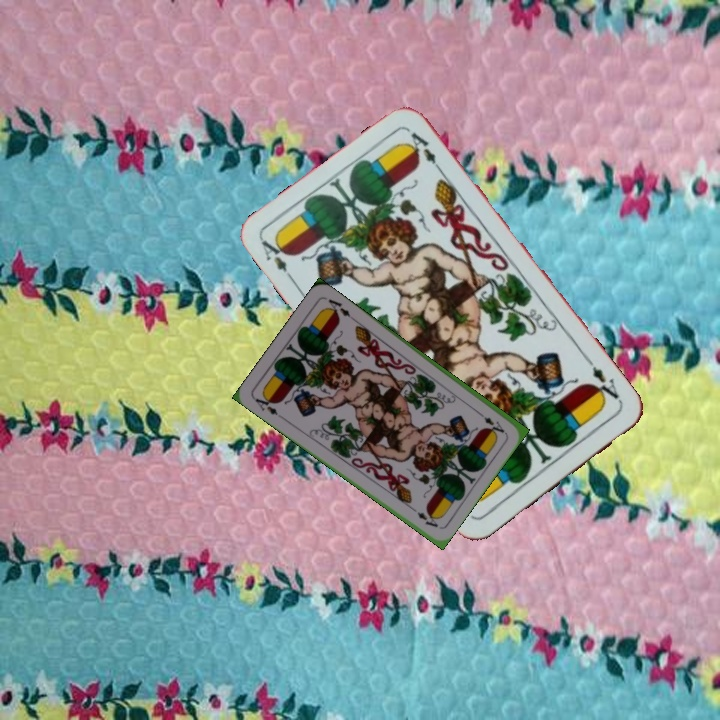EA: (257, 232, 299, 287), (583, 355, 625, 406), (250, 390, 286, 421), (473, 407, 507, 436)
